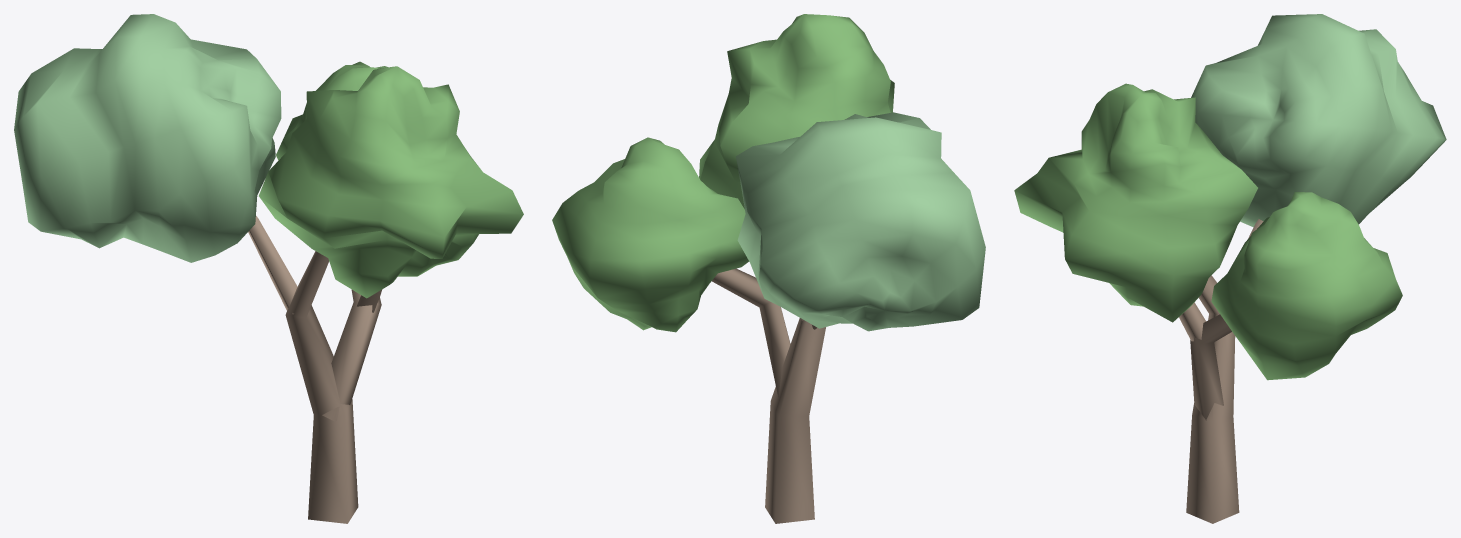
The model's file is oak2-lod2.glb.
3 views of the same model, side by side, from view 1: azimuth 30°, elevation 25°; view 2: azimuth 150°, elevation 25°; view 3: azimuth 270°, elevation 25° (orthographic). The views are drawn at different scales.
Parts seen in each view (by area): view 1: oak2-lod2; view 2: oak2-lod2; view 3: oak2-lod2.
Part boxes in pixels (x1=…): oak2-lod2: x1=14, y1=14, x2=523, y2=523; oak2-lod2: x1=552, y1=14, x2=985, y2=523; oak2-lod2: x1=1014, y1=14, x2=1446, y2=523.
Size of the model in its own units: 10.9 by 11.7 by 10.63.
